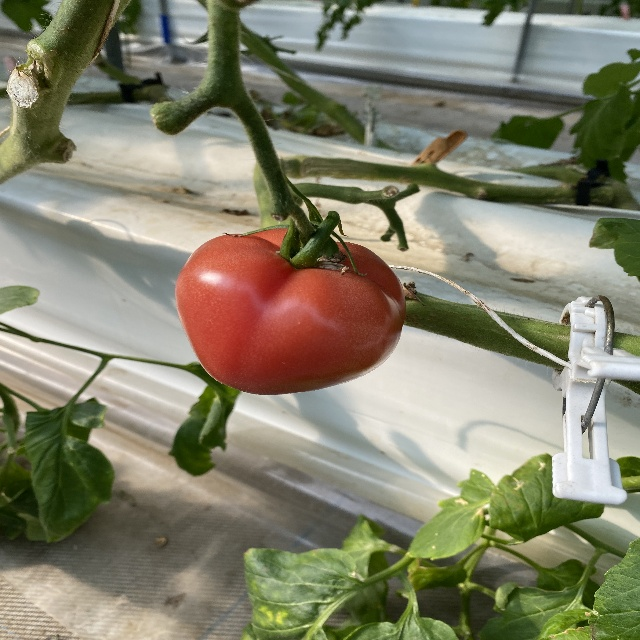b_fully_ripened: (175, 227, 406, 397)
